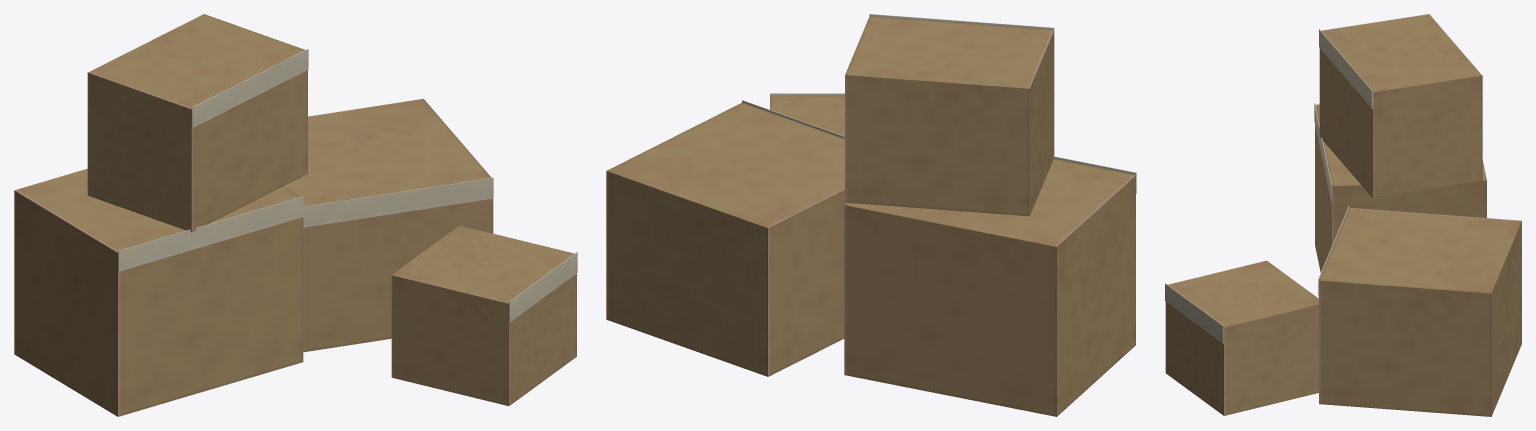
Rendered from cardboard_boxes.obj.
The picture shows the model from 3 angles, left to right: view 1: azimuth 30°, elevation 25°; view 2: azimuth 150°, elevation 25°; view 3: azimuth 270°, elevation 25°; orthographic projection. The views are drawn at different scales.
Parts seen in each view (by area): view 1: cardboard_boxes; view 2: cardboard_boxes; view 3: cardboard_boxes.
Part boxes in pixels (x1,y1,x2,y2): cardboard_boxes: (14, 14, 577, 416); cardboard_boxes: (606, 14, 1136, 416); cardboard_boxes: (1165, 14, 1521, 416).
Size of the model in its own units: 1.08 by 0.705 by 0.9173.
1 material, 1 textured.
